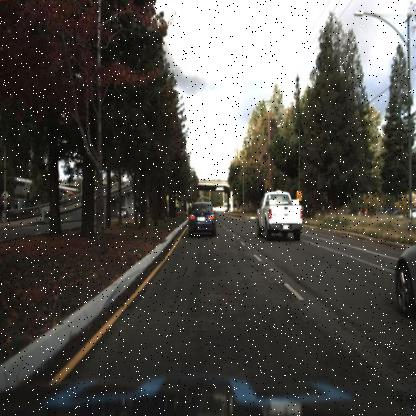car: (254, 182, 307, 242), (388, 221, 416, 325), (186, 196, 217, 246), (113, 201, 132, 221)
